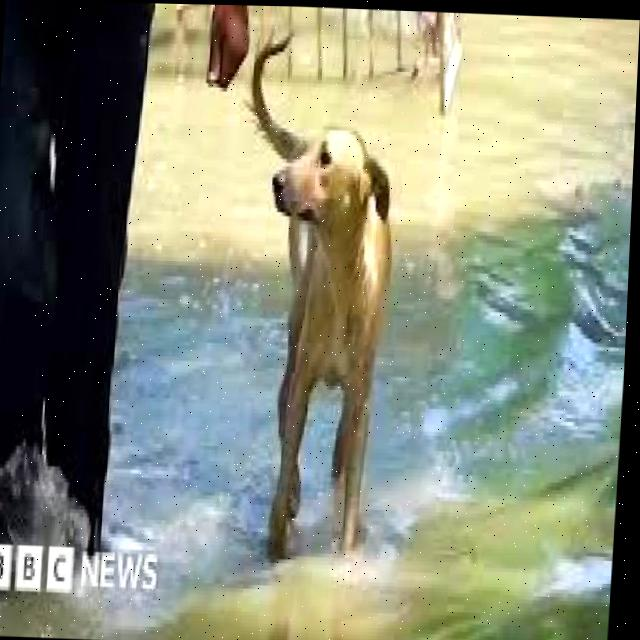dog: (197, 31, 434, 581)
